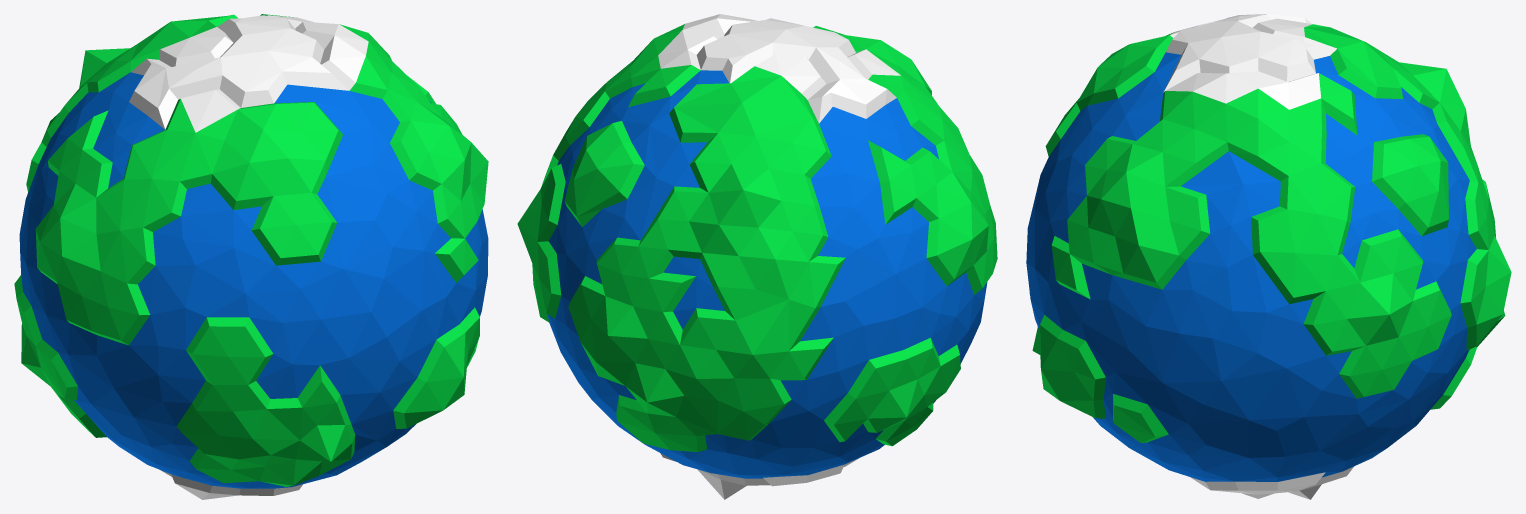
Rendered from Planet_Earth.fbx.
3 renders of one model, left to right at view 1: azimuth 30°, elevation 25°; view 2: azimuth 150°, elevation 25°; view 3: azimuth 270°, elevation 25°, orthographic. The views are drawn at different scales.
Parts seen in each view (by area): view 1: Icosphere; view 2: Icosphere; view 3: Icosphere.
Boxes of the visible parts, x1,y1,x2,y2 form: Icosphere: (14,14,488,499); Icosphere: (517,14,997,499); Icosphere: (1026,14,1511,499).
Size of the model in its own units: 19.94 by 21.06 by 20.29.
